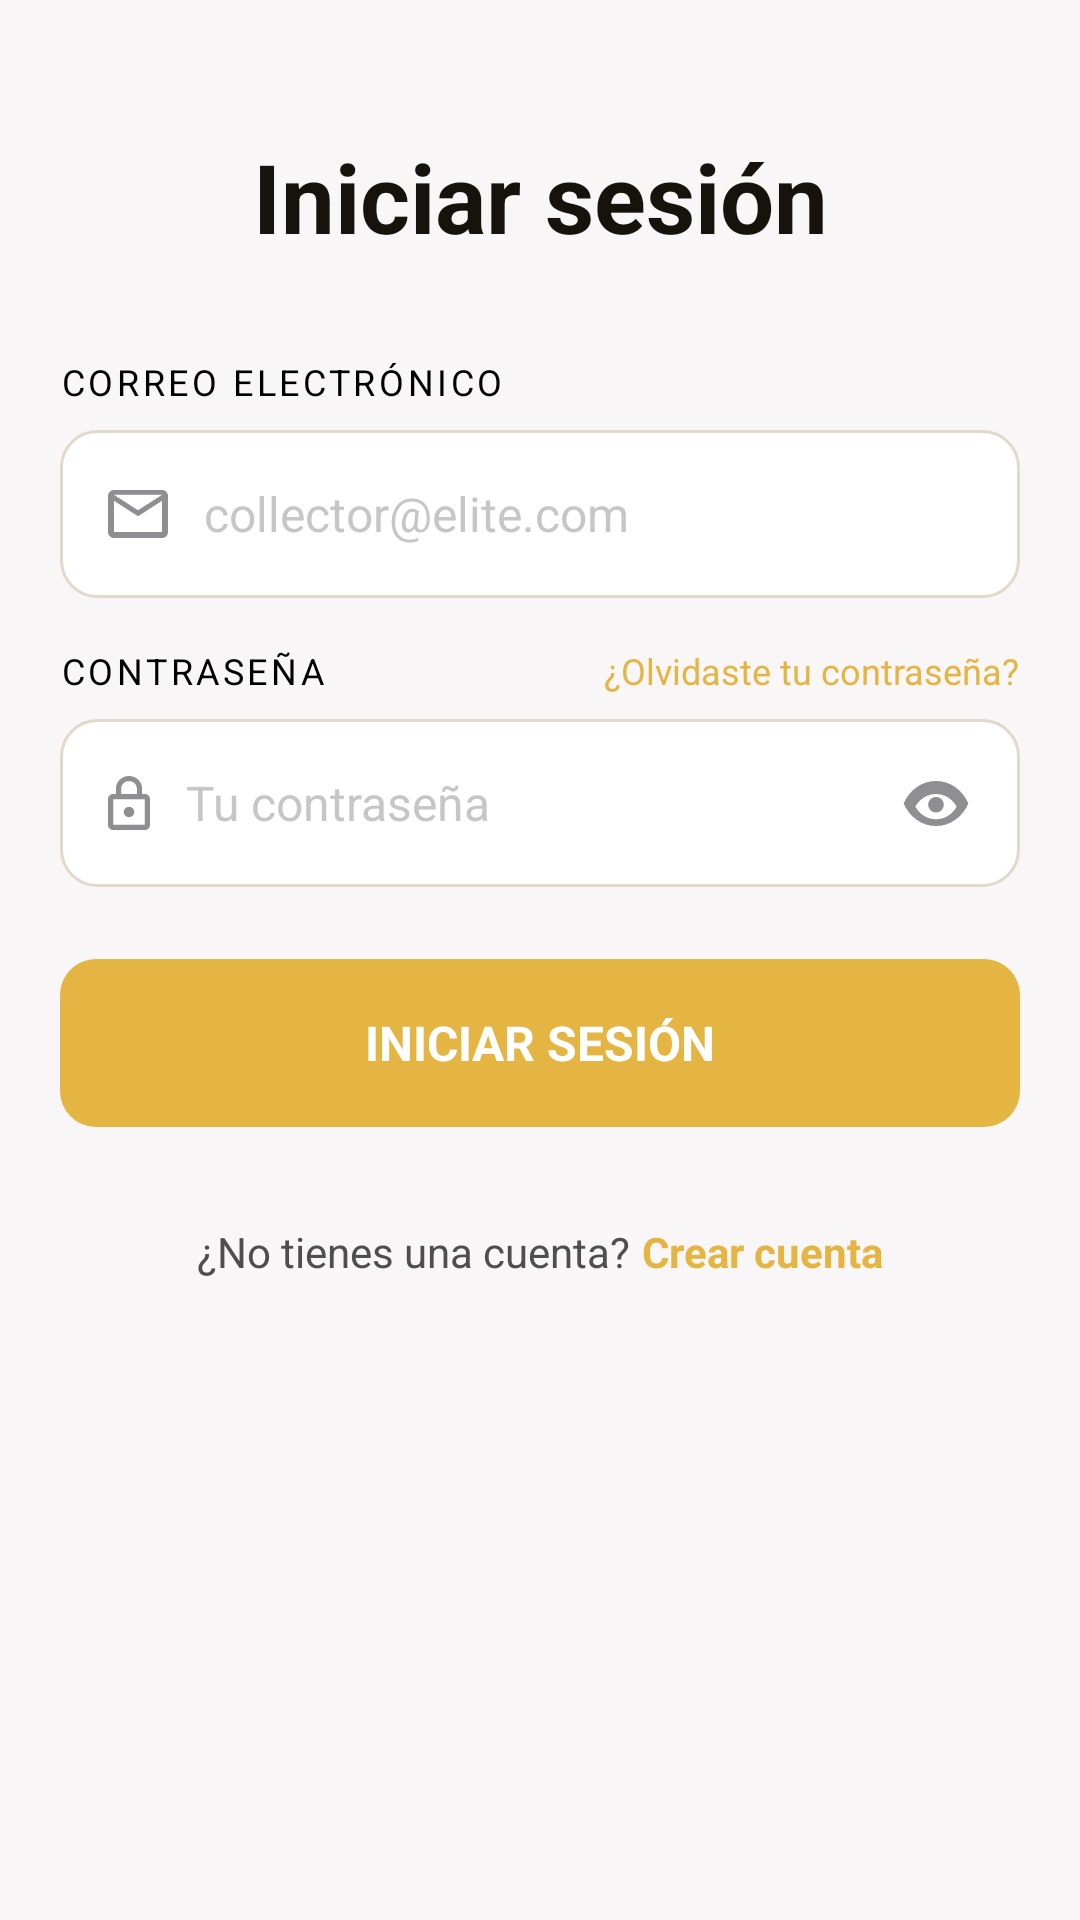

Locate icon controls on the screen. Image size 1080px×1920px, boxes as (x1, y1, x2, y2).
lock: (108, 776, 150, 830)
mail: (108, 490, 168, 538)
Mostrar u ocultar contraseña: (903, 781, 969, 826)
